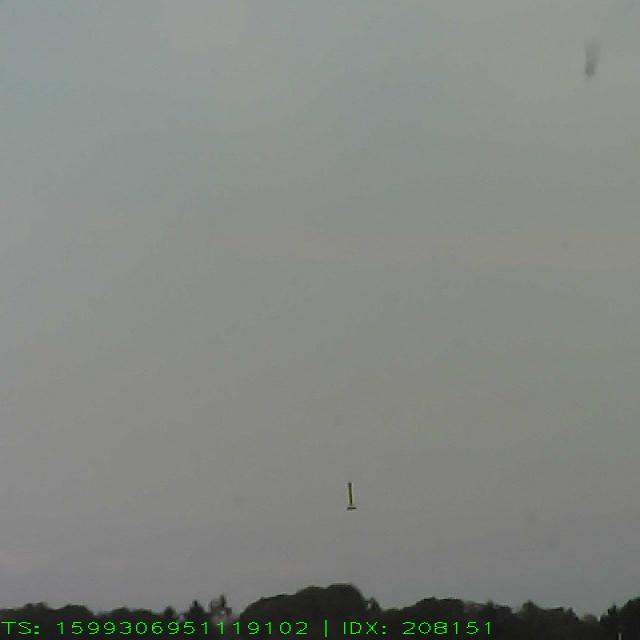Rocket: (346, 482, 358, 512)
